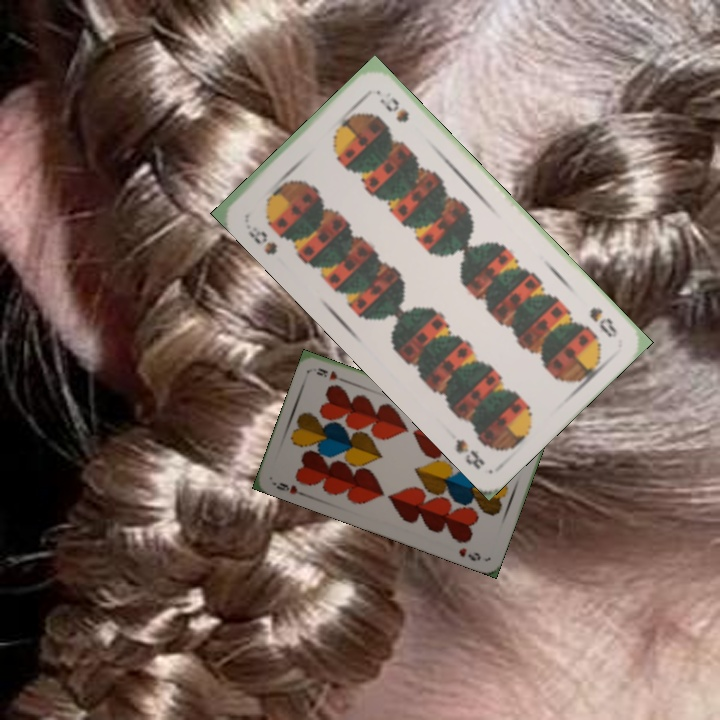H9: (269, 478, 309, 499)
S8: (243, 222, 280, 258), (585, 303, 620, 340)
